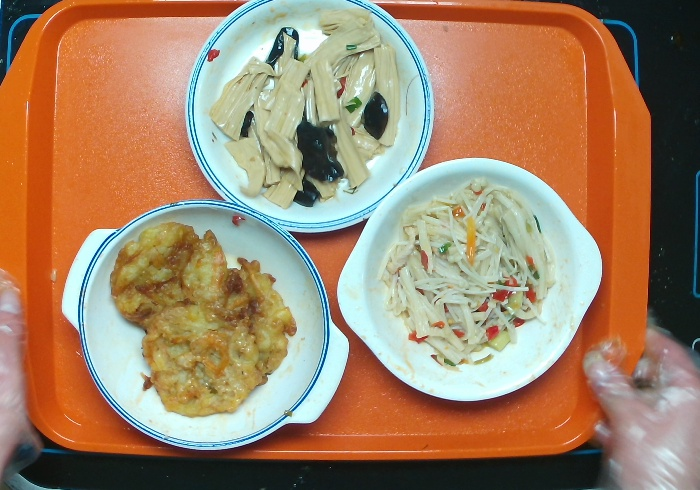HZYJPL-Dai_Er_Bai_Yuan_Wan: (331, 158, 606, 404)
HZYJPL-Lan_Bian_Dai_Er_Wan: (58, 200, 352, 452)
HZYJPL-Lan_Bian_Yuan_Die: (182, 1, 435, 235)
